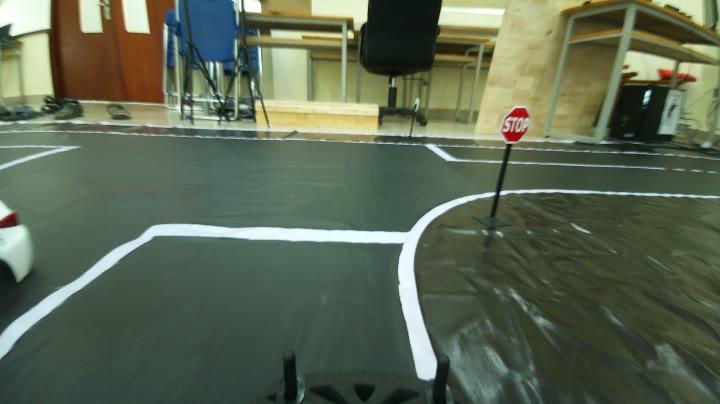stop: (496, 106, 537, 143)
